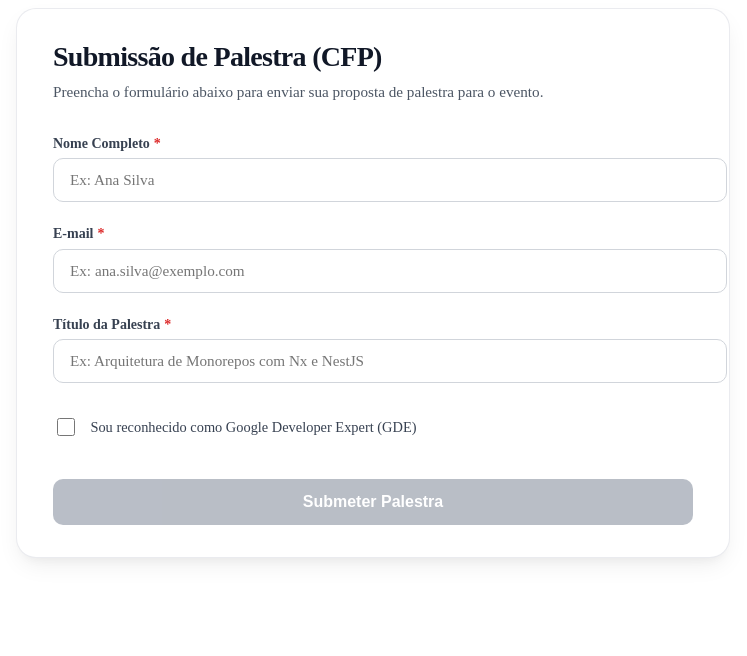
Test: CfpForm Component › Liberação do botão, submissão e acessibilidade WAI-ARIA (Task 4.2) › deve exibir mensagem de erro acessível caso a submissão falhe
Type "Carlos Palestrante" into the field labelled "Nome Completo *" at point(390, 180), box [53,158,727,202]
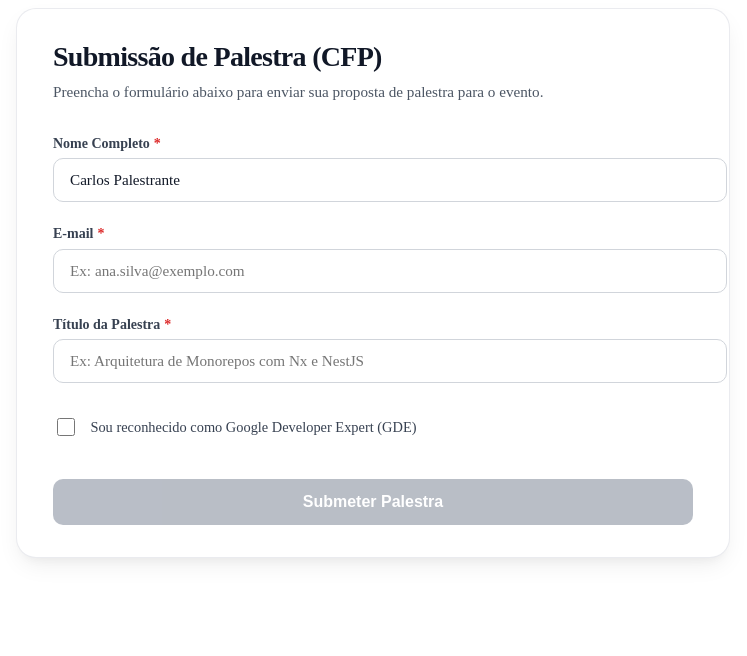
Type "carlos@empresa.com" into the field labelled "E-mail *" at point(390, 271), box [53,249,727,293]
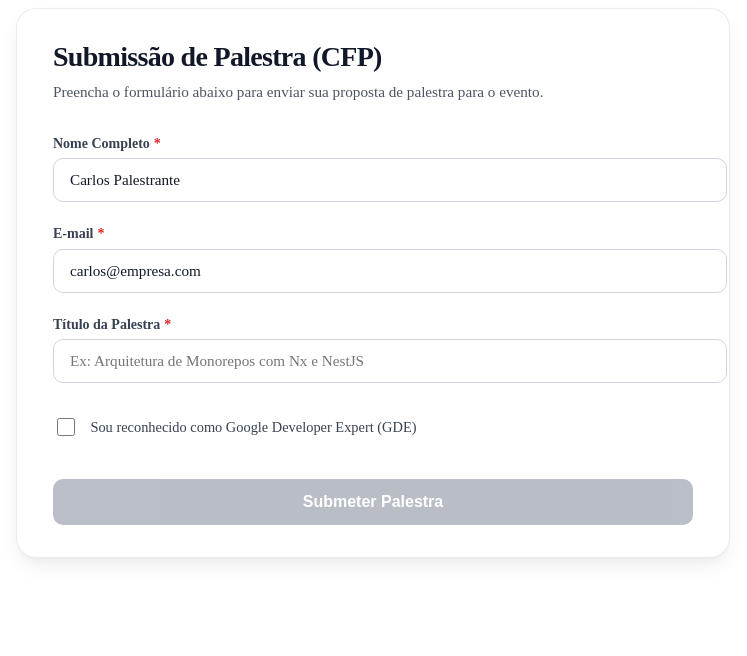
Type "Performance em React 19" into the field labelled "Título da Palestra *" at point(390, 361), box [53,339,727,383]
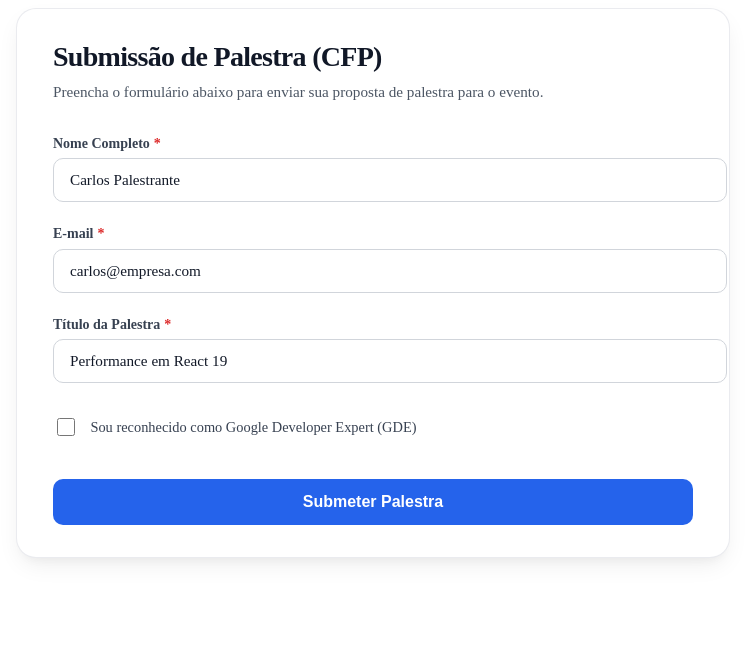
Click the button "Submeter Palestra" at point(373, 502), box [53,479,693,525]
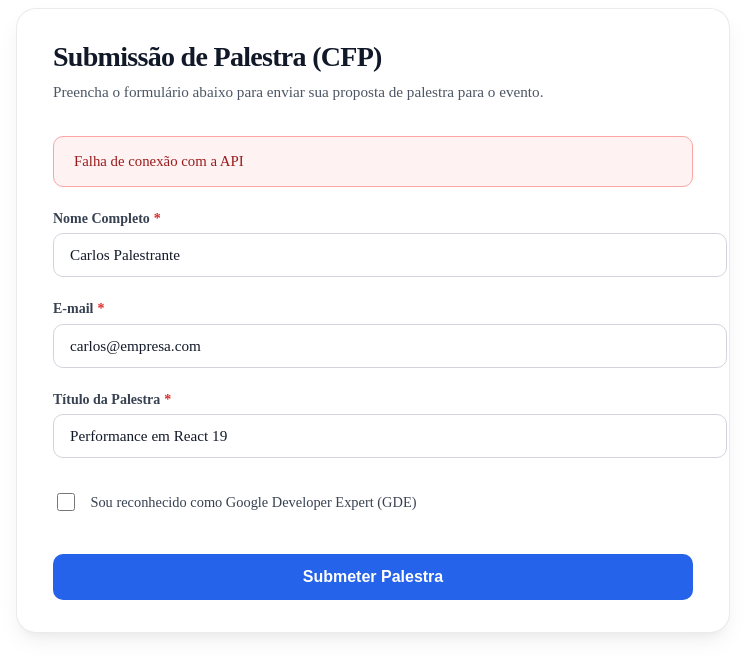
expect the message reads "Falha de conexão com a API": met, box [74,153,244,169]
